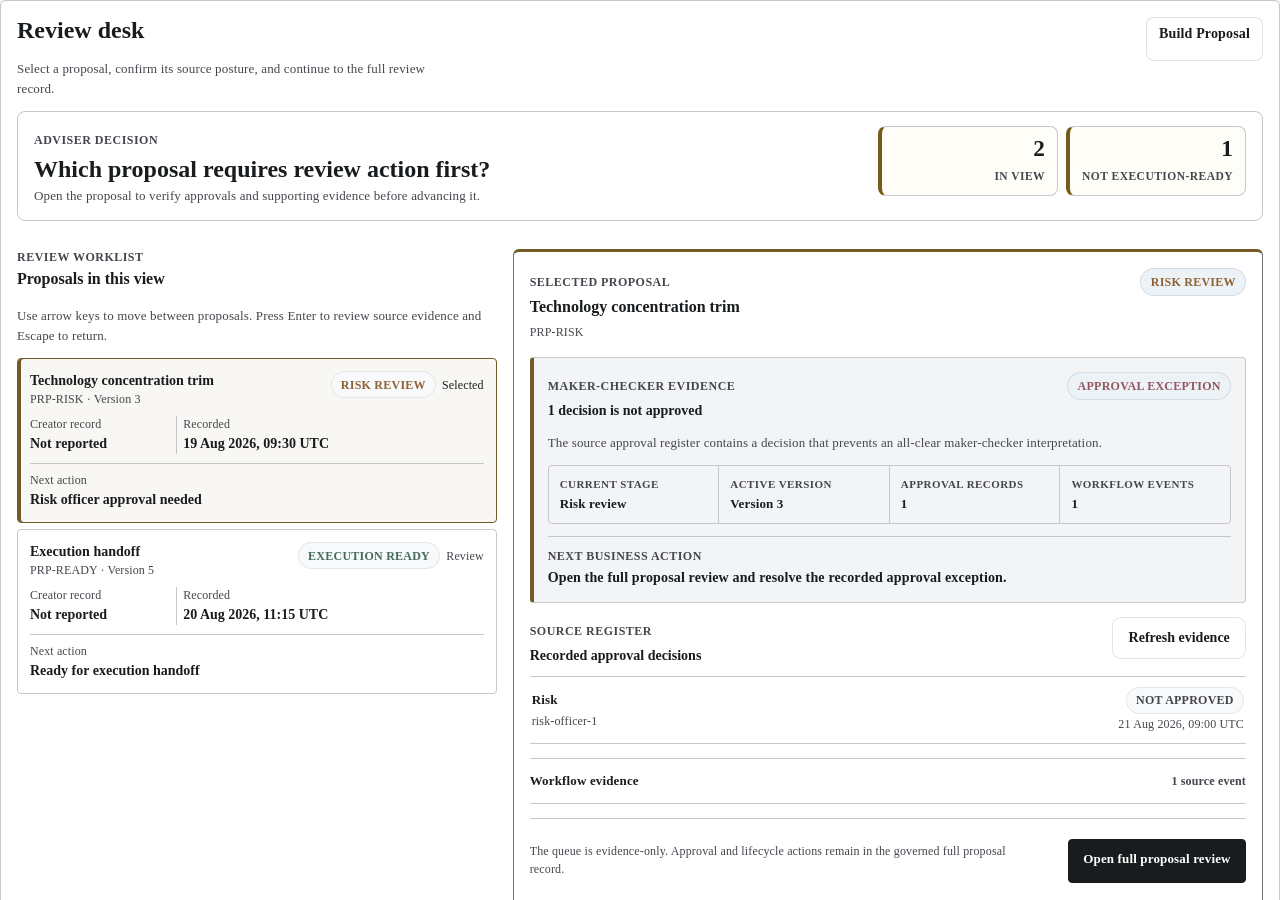
Test case: ProposalLifecycleWorkspace › rejects a transport-success refresh whose compound approval evidence conflicts
Expected: the heading "1 decision is not approved" is shown, [548,403,702,418]
Step 1. Click the button "Refresh evidence" → (1179, 638), box [1112,617,1246,659]
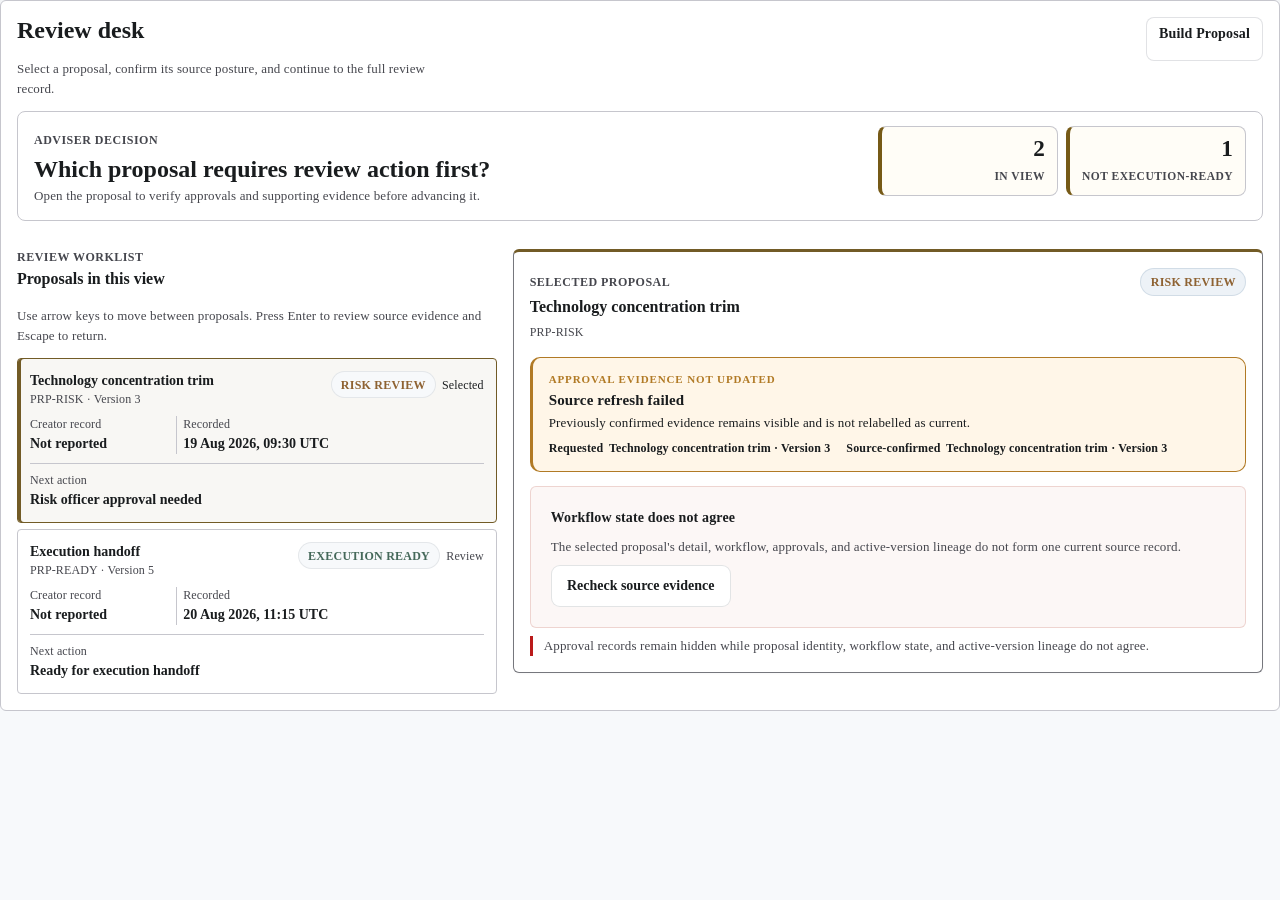
Expected: the text "Source refresh failed" is shown, [549,392,684,408]
Expected: the heading "Workflow state does not agree" is shown, [551,507,735,529]
